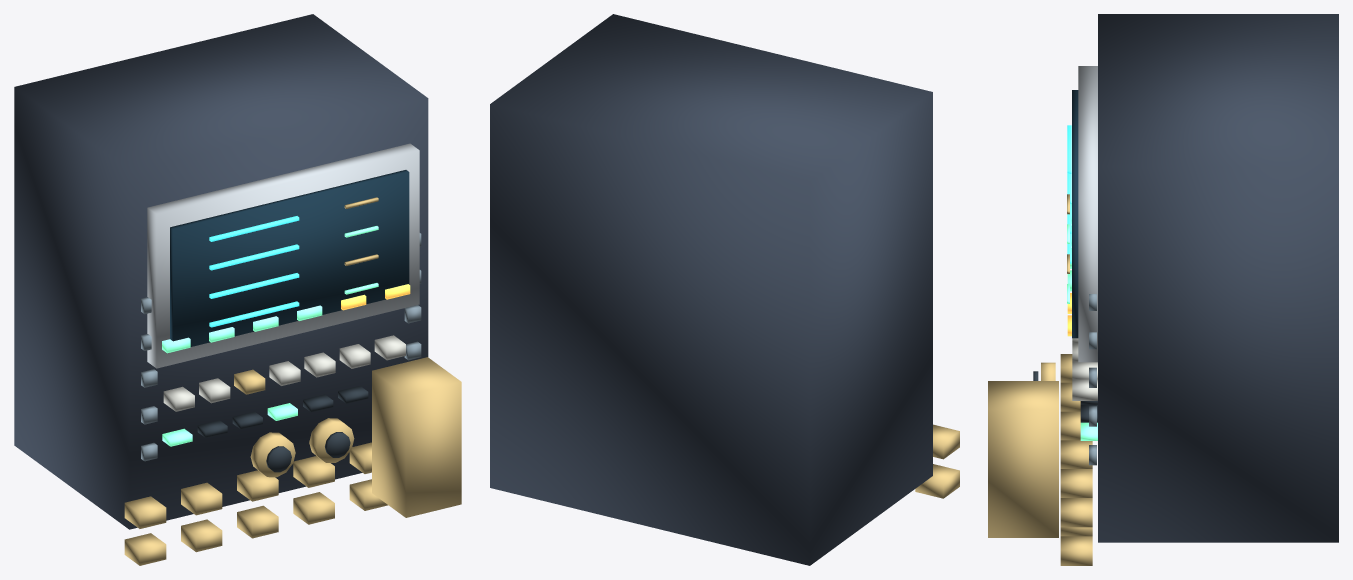
Rendered from 48_L92_DrillCuttingsCollector.glb.
The picture shows the model from 3 angles, left to right: view 1: azimuth 30°, elevation 25°; view 2: azimuth 150°, elevation 25°; view 3: azimuth 270°, elevation 25°; orthographic projection. The views are drawn at different scales.
Parts seen in each view (by area): view 1: L92_DrillCuttingsCollector, L92_DrillCuttingsCollector_Part_0011, L92_DrillCuttingsCollector_Part_0009, L92_DrillCuttingsCollector_Part_0012, L92_DrillCuttingsCollector_Part_0014, L92_DrillCuttingsCollector_Part_0010; view 2: L92_DrillCuttingsCollector; view 3: L92_DrillCuttingsCollector, L92_DrillCuttingsCollector_Part_0011.
Boxes of the visible parts, x1,y1,x2,y2 form: L92_DrillCuttingsCollector: (14,14,428,565); L92_DrillCuttingsCollector_Part_0011: (372,357,461,517); L92_DrillCuttingsCollector_Part_0009: (162,305,322,353); L92_DrillCuttingsCollector_Part_0012: (250,432,295,477); L92_DrillCuttingsCollector_Part_0014: (309,418,354,462); L92_DrillCuttingsCollector_Part_0010: (341,284,410,310); L92_DrillCuttingsCollector: (490,14,959,565); L92_DrillCuttingsCollector: (1060,14,1338,565); L92_DrillCuttingsCollector_Part_0011: (988,381,1058,537).
Size of the model in its own units: 1.05 by 1.24 by 0.99.
